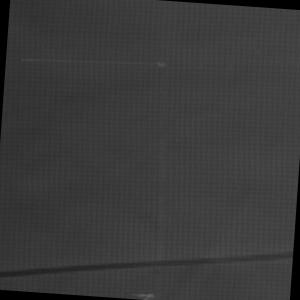Damage: (20, 49, 171, 75), (130, 290, 163, 300)
Wrinkle: (1, 214, 295, 300)
